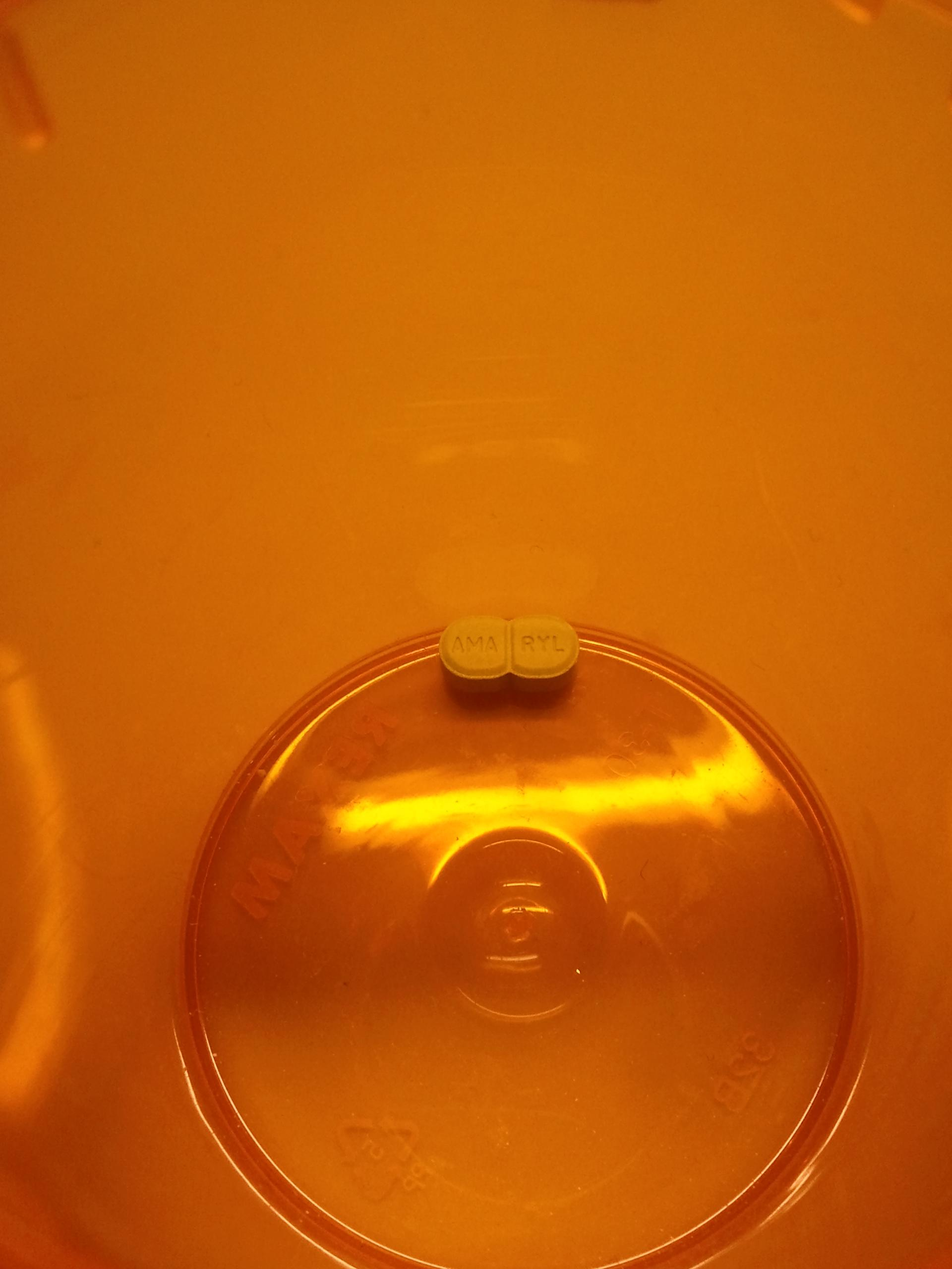Pill: (414, 597, 596, 697)
